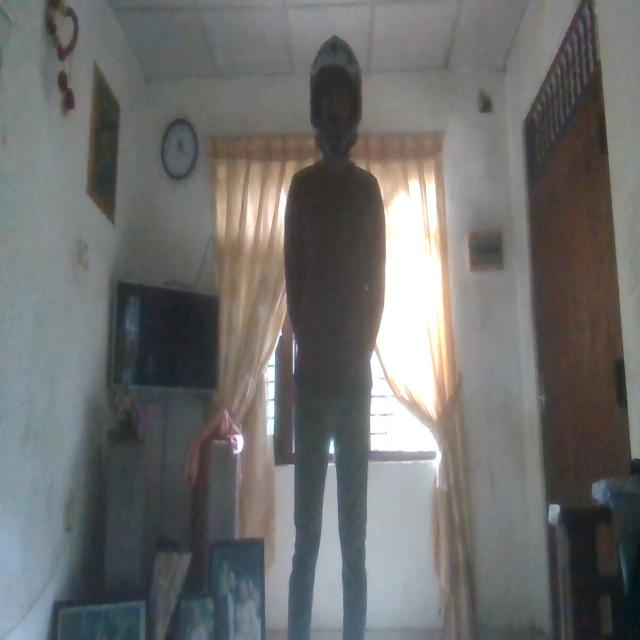Helmet_Wearer: (307, 44, 367, 170)
Person: (279, 50, 387, 640)
